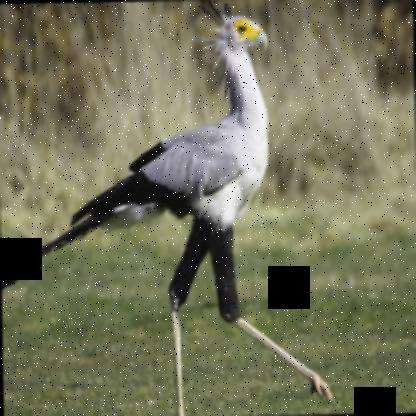Sagittarius serpentarius: (0, 0, 335, 415)
